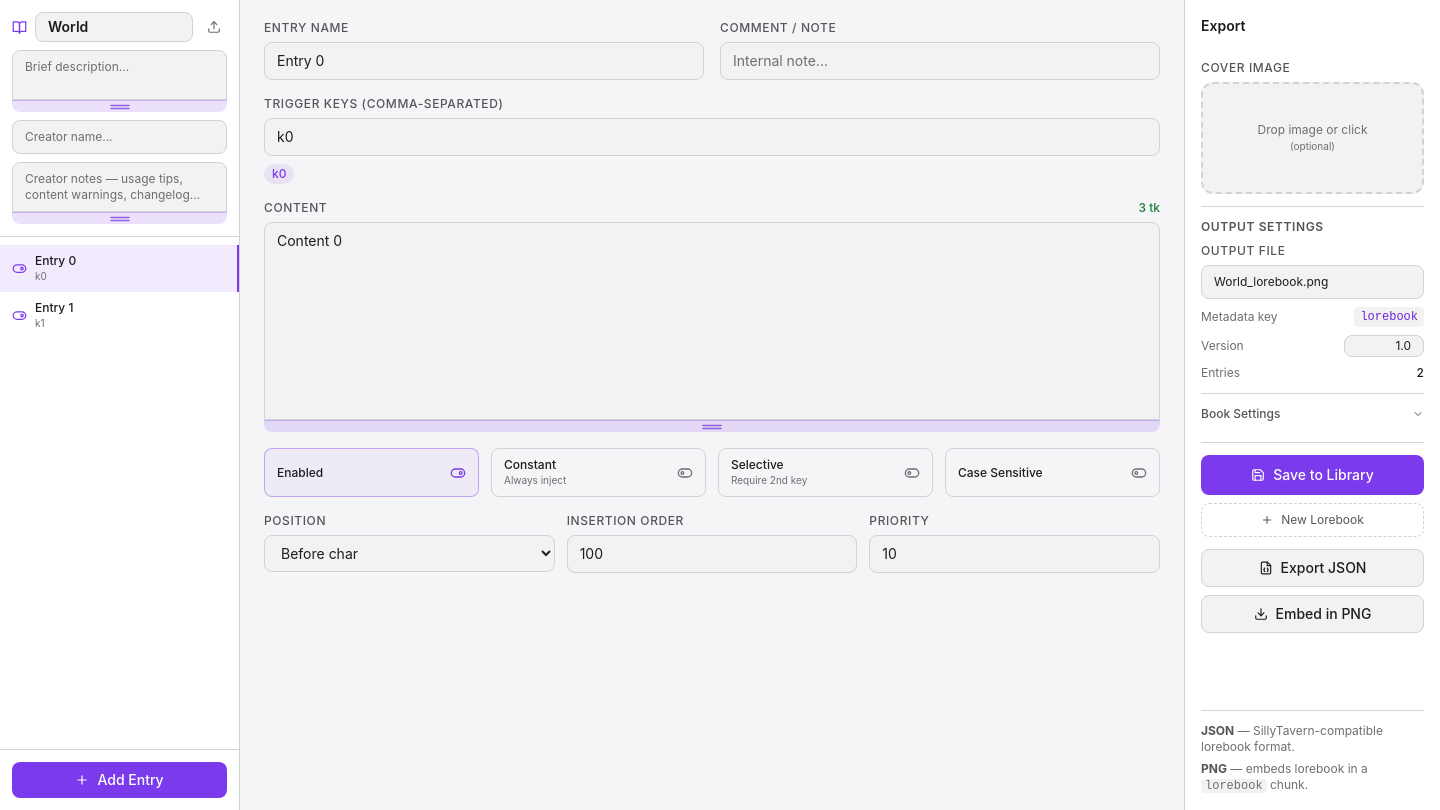
Test: LoreBookEditor › counts the entries it holds
This screenshot has width=1440, height=810.
Click the button "Add Entry": (120, 780) [12, 762, 227, 798]
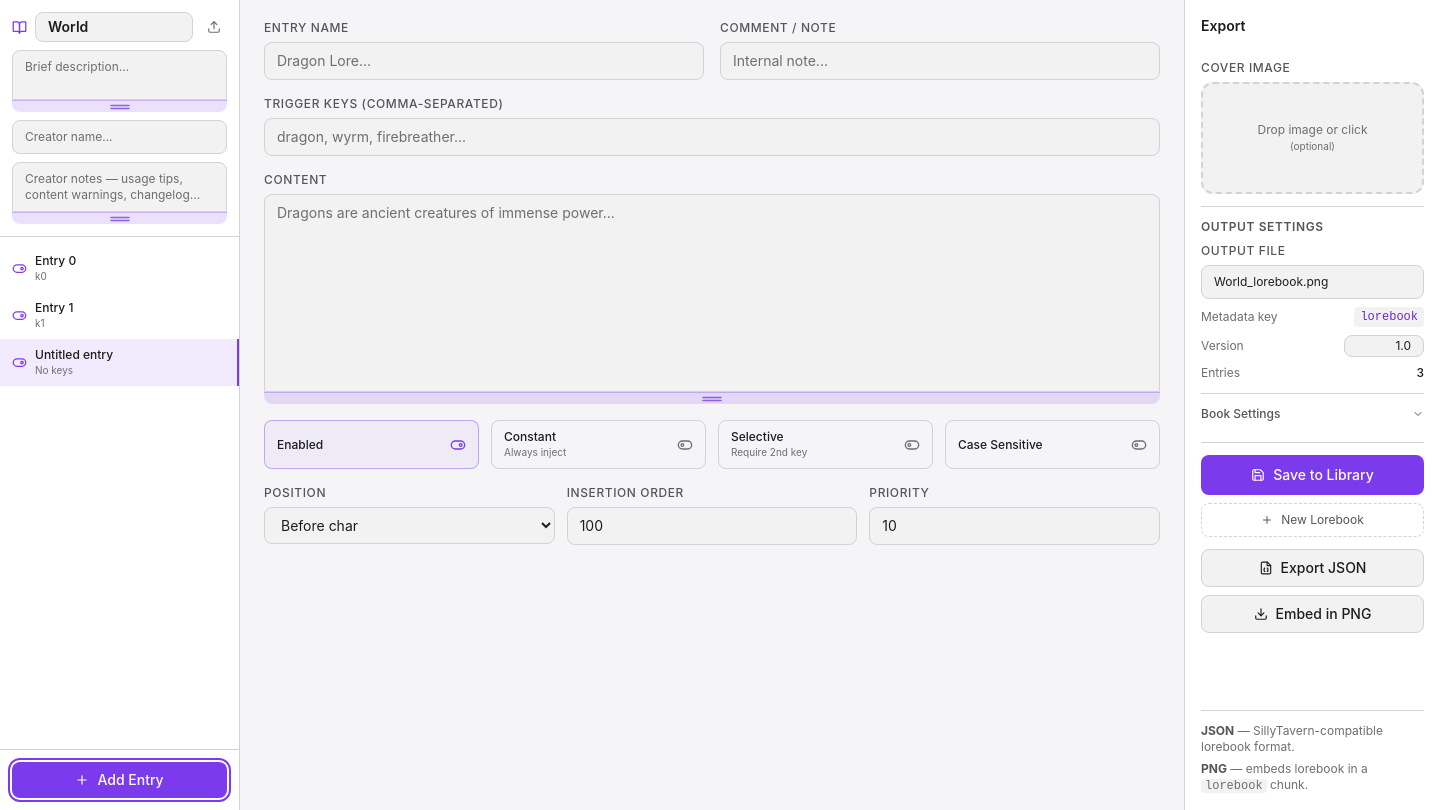
Expected: the text "3" is shown, [1416, 365, 1424, 381]
